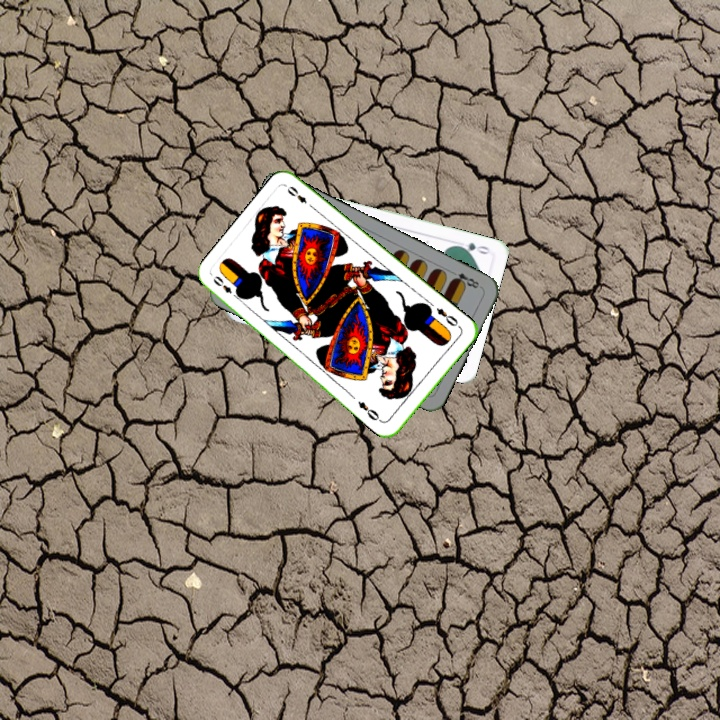E8: (446, 267, 484, 291)
EO: (432, 304, 461, 329), (209, 272, 234, 296)
GO: (452, 238, 492, 257)
